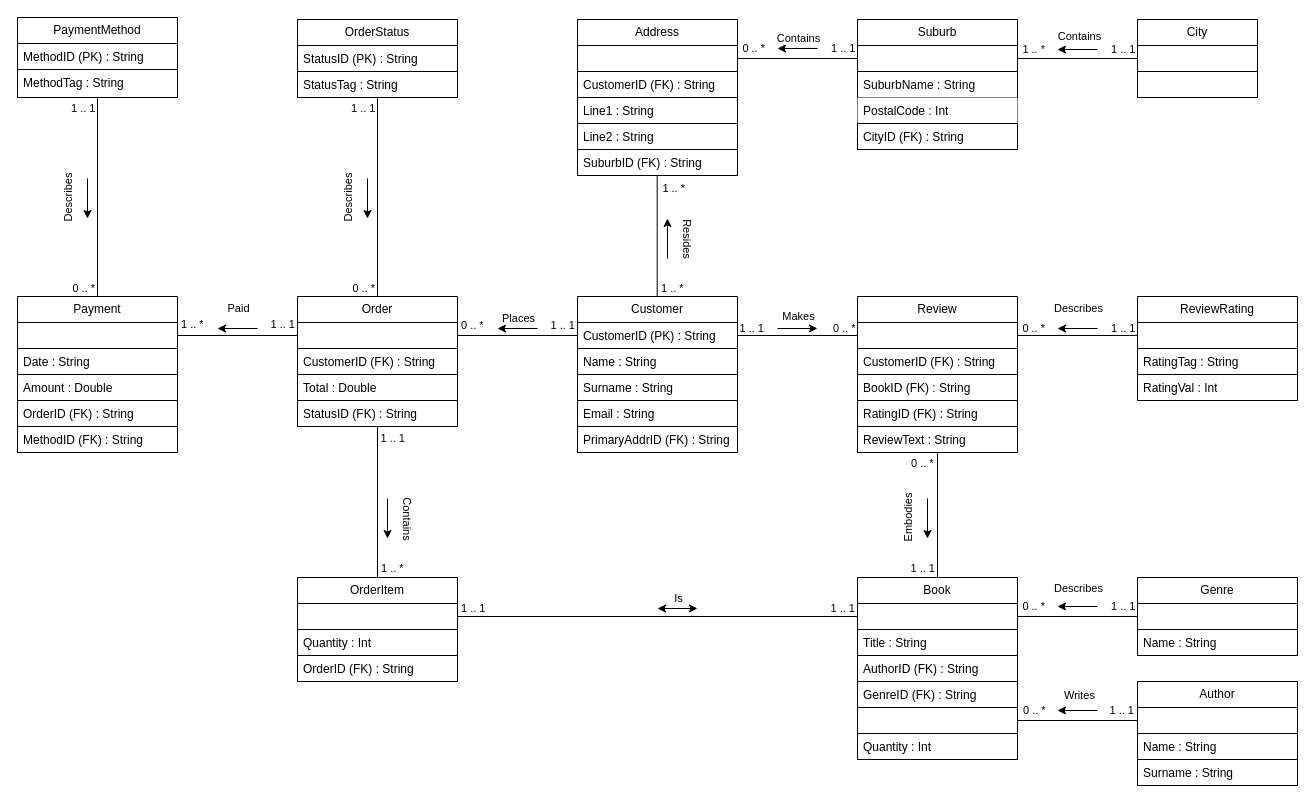
The diagram is 1315 pixels wide and 806 high, and some of its shapes have lost their labels. Each missing label, with the centre of its shape:
AddressID (PK) : String: (x=657, y=58)
AuthorID (PK) : String: (x=1217, y=720)
BookID (PK) : String: (x=937, y=616)
BookID (PK, FK) : String: (x=377, y=616)
CityID (PK) : String: (x=1197, y=58)
CityName: String: (x=1197, y=84)
GenreID (PK) : String: (x=1217, y=616)
OrderID (PK) : String: (x=377, y=335)
PaymentID (PK) : String: (x=97, y=335)
Price : Double: (x=937, y=720)
RatingID (PK) : String: (x=1217, y=335)
ReviewID (PK) : String: (x=937, y=335)
SuburbID (PK) : String: (x=937, y=58)
